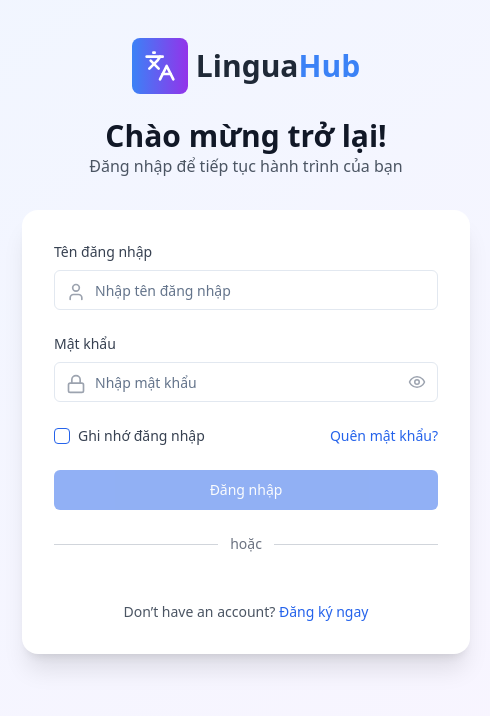
Test: Login Functional Tests › Shows error message when login fails with invalid credentials
// Nhập thông tin SAI
Type "wronguser" into the field with placeholder "Nhập tên đăng nhập" at (246, 290), box [54,270,438,310]
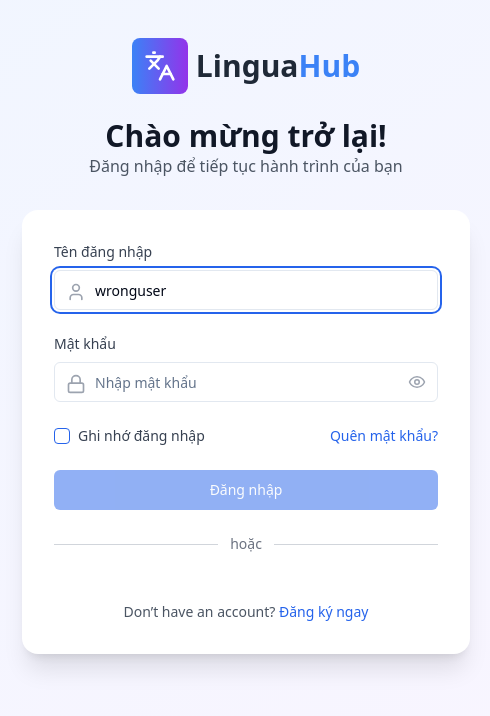
Type "wrongpassword" into the password field with placeholder "Nhập mật khẩu" at (246, 382), box [54,362,438,402]
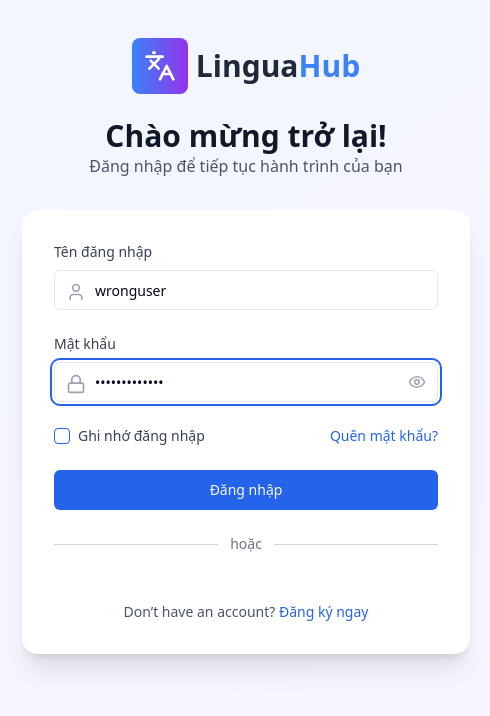
Click the button "Đăng nhập" at (246, 490), box [54,470,438,510]
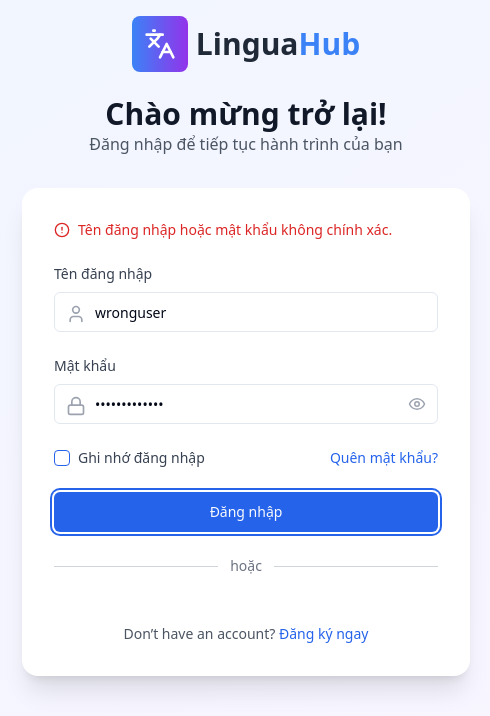
Expected: the text "Tên đăng nhập hoặc mật khẩu không chính xác." is shown, [78,220,392,240]
